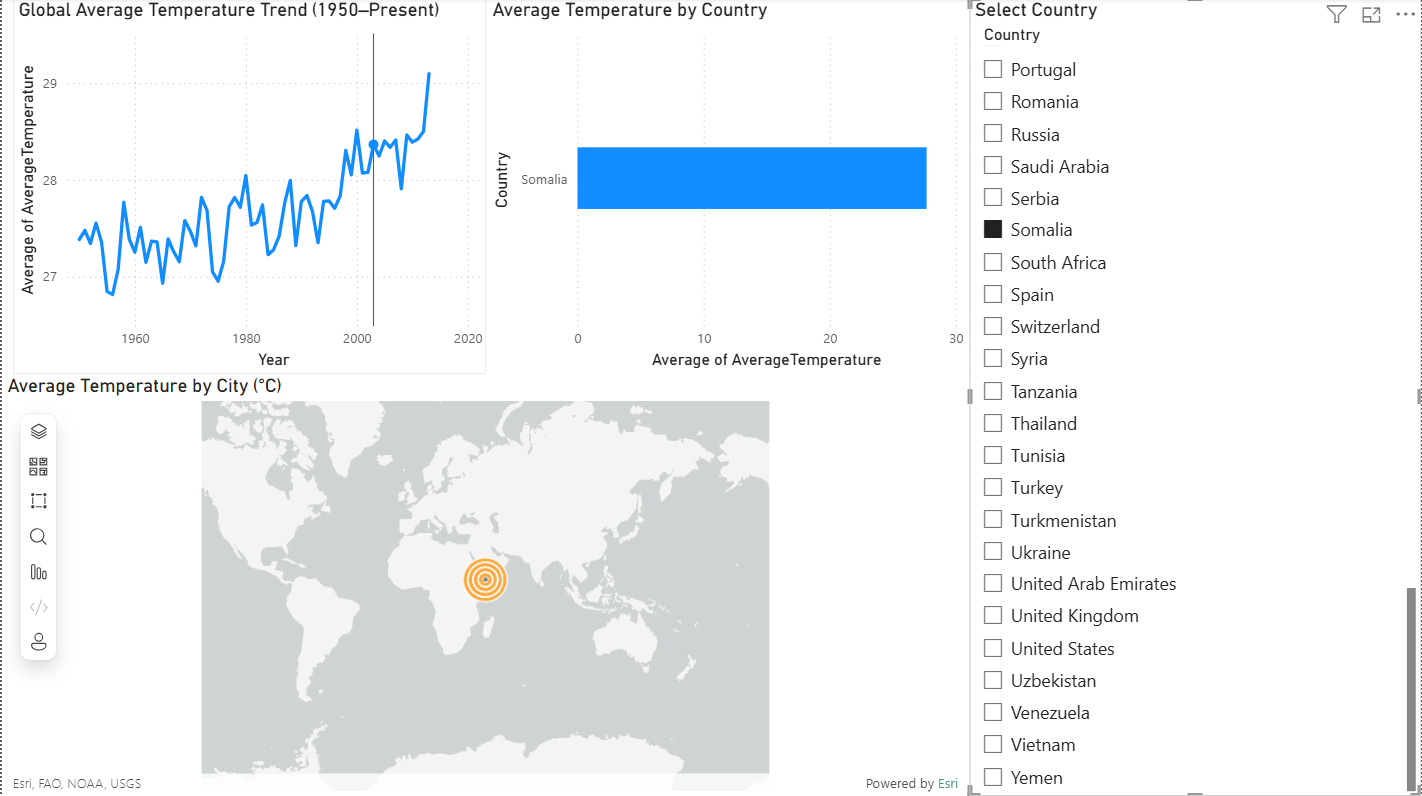

What the dashboard file says about the page in this screenshot:
{"tool":"powerbi","page":{"name":"Page 1","canvas":[1280,720],"ordinal":0},"visuals":[{"type":"lineChart","title":"Global Average Temperature Trend (1950–Present)","fields":{"Category":["cleaned_climate_data_1950.Year"],"Y":["Avg(cleaned_climate_data_1950.AverageTemperature)"]},"box":[9.6,0,428.1,338.9],"z":0},{"type":"barChart","title":"Average Temperature by Country","fields":{"Category":["cleaned_climate_data_1950.Country"],"Y":["Avg(cleaned_climate_data_1950.AverageTemperature)"]},"box":[437.7,0,435,338.9],"z":1000},{"type":"esriVisual","title":"Average Temperature by City (°C)","fields":{"Latitude":["cleaned_climate_data_1950.Latitude"],"Longitude":["cleaned_climate_data_1950.Longitude"],"Location":["cleaned_climate_data_1950.City"],"Size":["Avg(cleaned_climate_data_1950.AverageTemperature)"],"Time":["cleaned_climate_data_1950.Year"]},"box":[0,338.9,872.7,381.5],"z":1001},{"type":"slicer","title":"Select Country","fields":{"Values":["cleaned_climate_data_1950.Country"]},"box":[872.7,0,407.5,720.4],"z":1002}]}

Visuals, with their boxes in screenshot pixels (x1, y1, x2, y2), scaled from the page's 1280x720 canvas onto the 1422x796 screenshot:
"Global Average Temperature Trend (1950–Present)" lineChart: select_region(11, 0, 486, 375)
"Average Temperature by Country" barChart: select_region(486, 0, 970, 375)
"Average Temperature by City (°C)" esriVisual: select_region(0, 375, 970, 795)
"Select Country" slicer: select_region(970, 0, 1421, 795)
